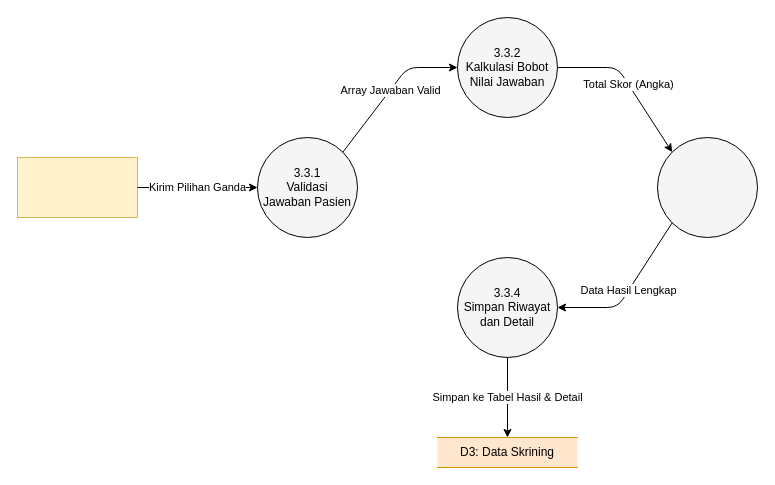
The diagram is 775 pixels wide and 485 high, and some of its shapes have lost their labels. Here are the shapes that lost their labels. From the top down, the centre of each, then its label:
pixel 77 187: PASIEN
pixel 707 187: 3.3.3 Tentukan Kategori Keparahan
